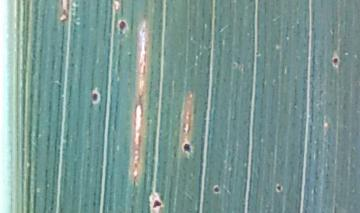tarspot: (183, 143, 192, 154), (118, 20, 126, 32), (152, 200, 162, 208), (91, 93, 98, 102), (213, 186, 220, 193), (333, 57, 338, 65), (276, 185, 282, 191)
